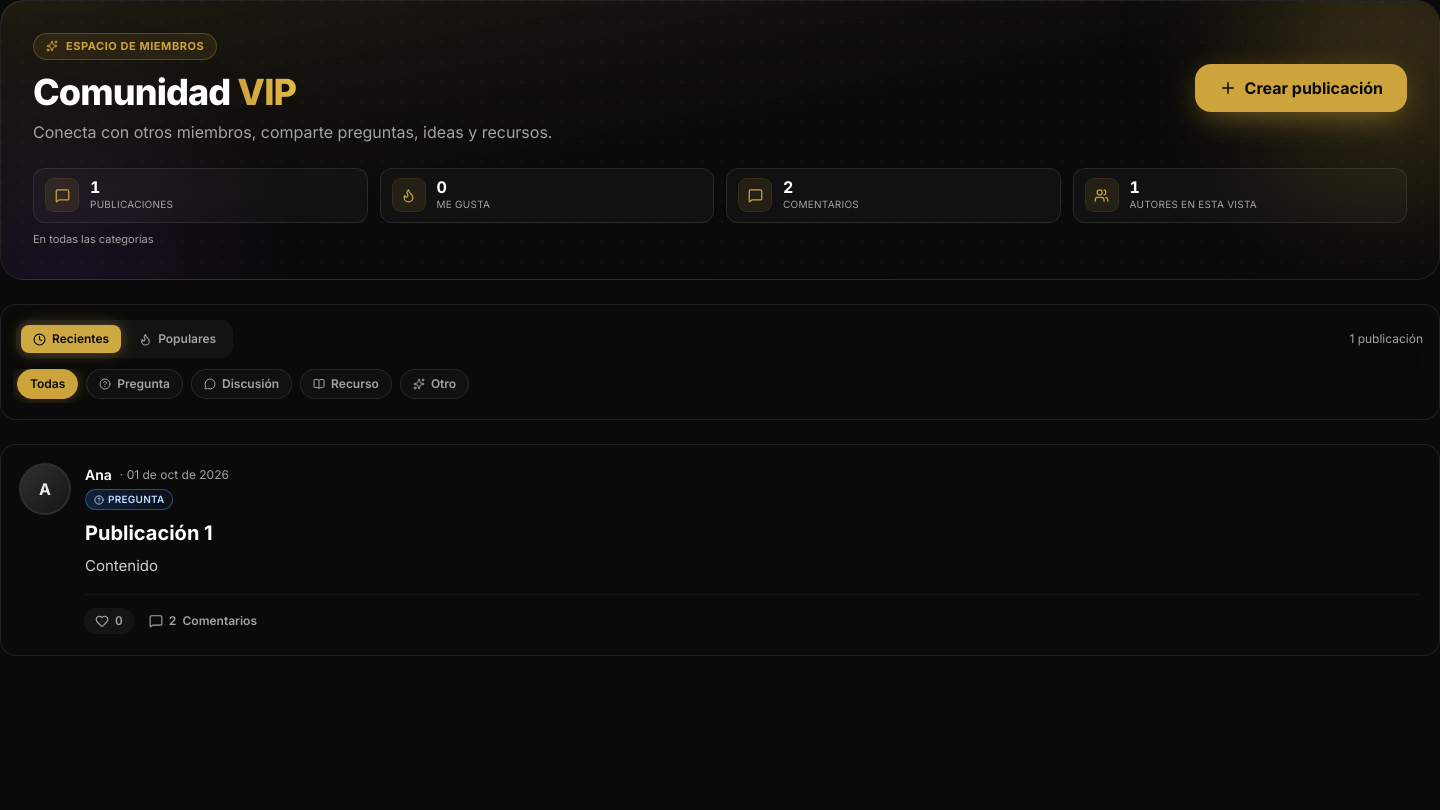
Scenario: CommunityFeed › el botón de comentarios abre la publicación
Click the button with aria-label "2 comentarios: ver los comentarios".
click(203, 621)  # box [137,607,269,635]
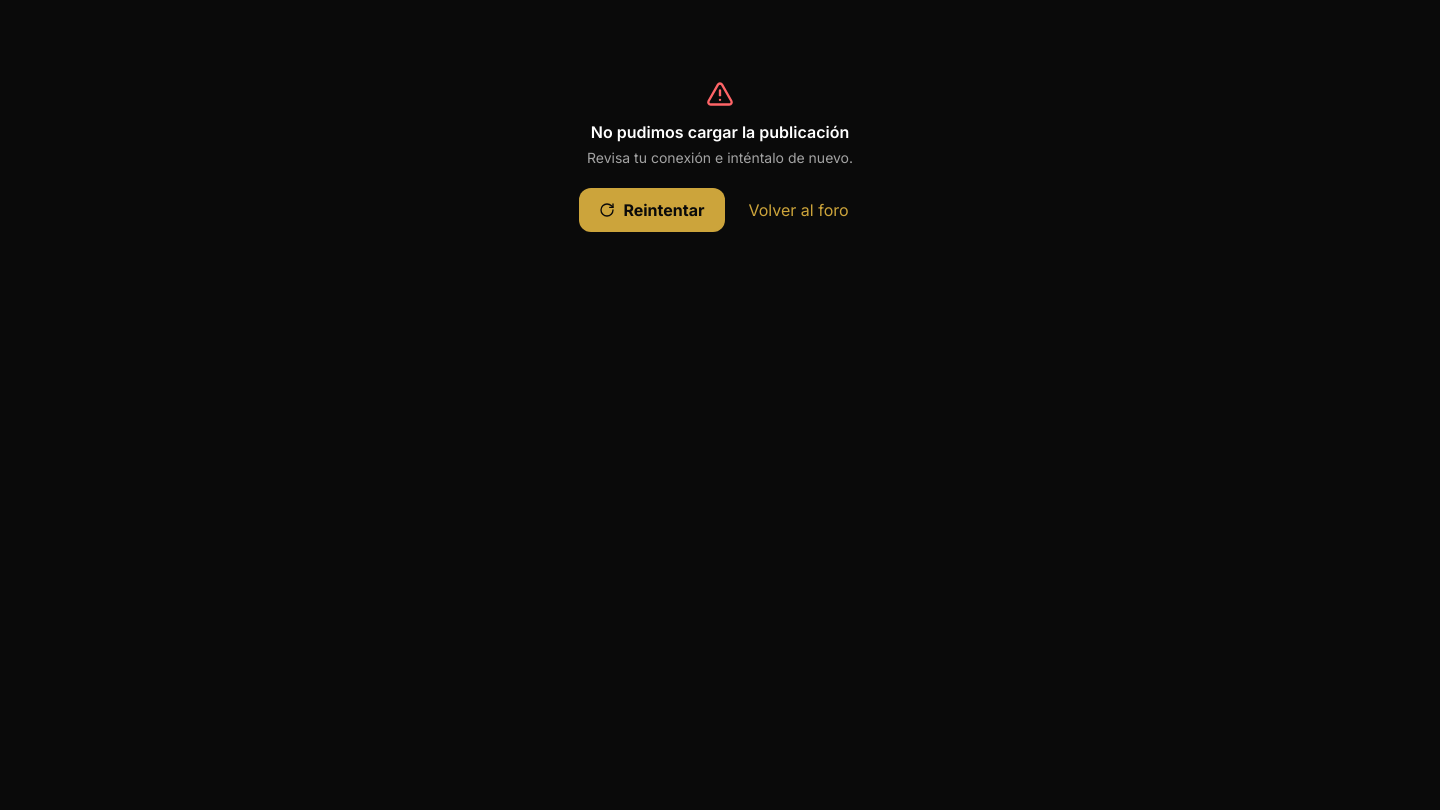
Check: the button "Volver al foro" is shown, box [736,188,861,232]
